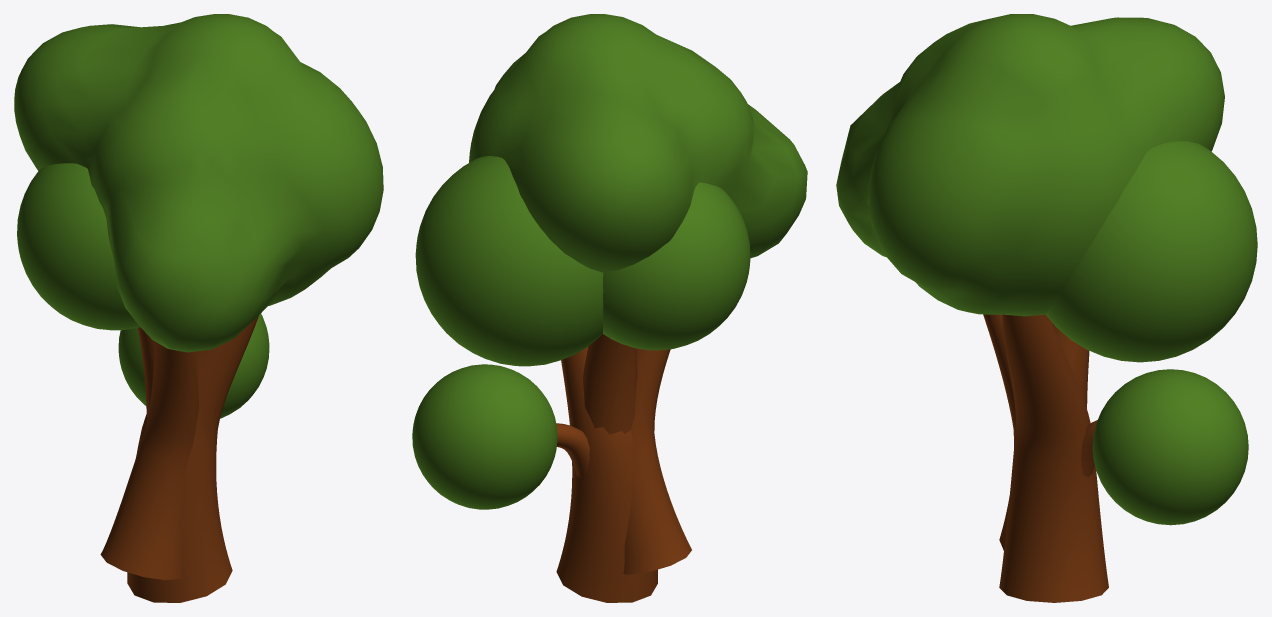
Rendered from Tree_1.fbx.
3 views of the same model, side by side, from view 1: azimuth 30°, elevation 25°; view 2: azimuth 150°, elevation 25°; view 3: azimuth 270°, elevation 25° (orthographic). The views are drawn at different scales.
Visible parts, largest first — view 1: NurbsPath; view 2: NurbsPath; view 3: NurbsPath.
Boxes of the visible parts, x1=… form: NurbsPath: x1=14, y1=14, x2=383, y2=602; NurbsPath: x1=412, y1=14, x2=807, y2=602; NurbsPath: x1=836, y1=14, x2=1257, y2=602.
Bounding box in the file's own units: 602 × 1111 × 725.
